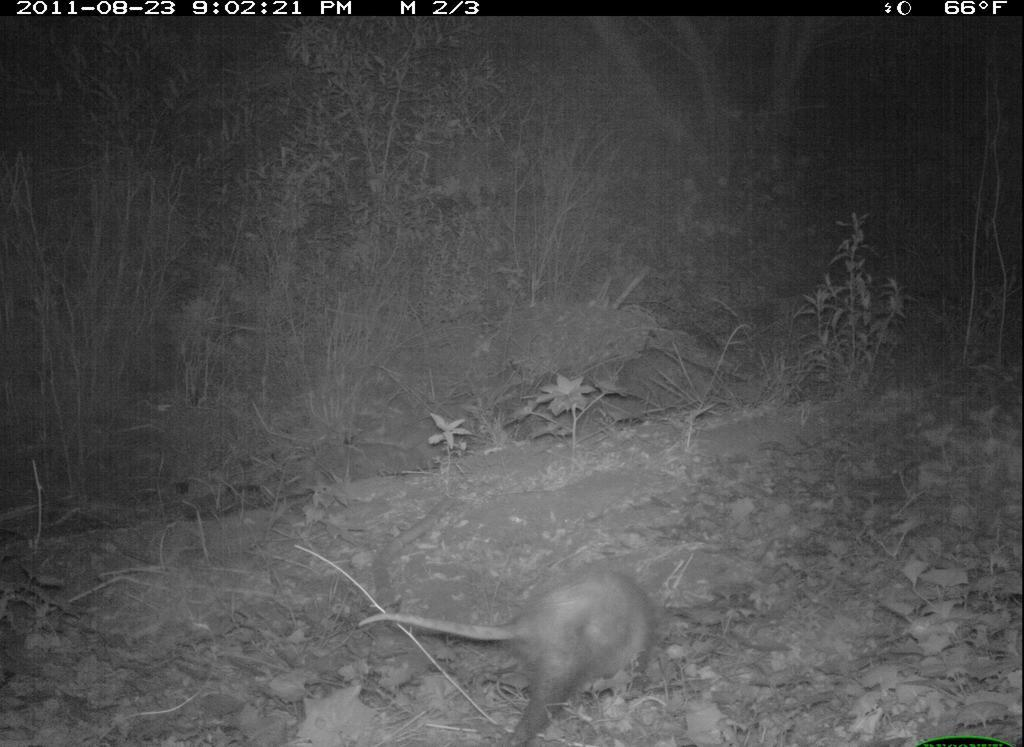opossum: (354, 566, 675, 747)
